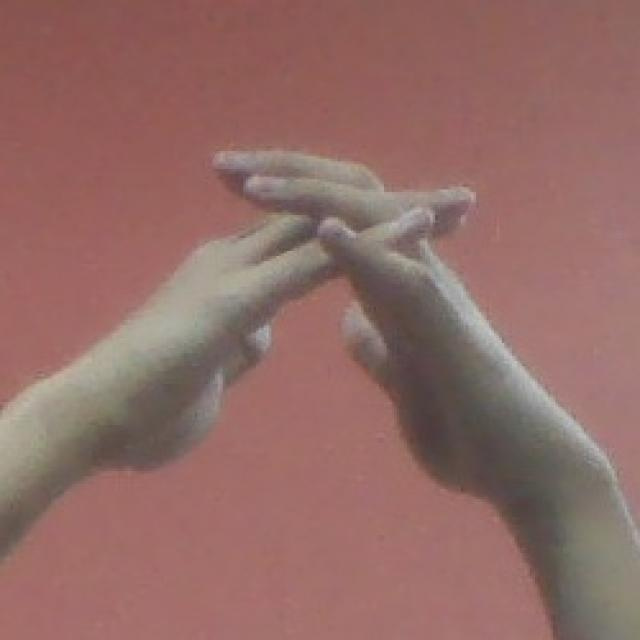Alphabet-W: (77, 125, 564, 511)
